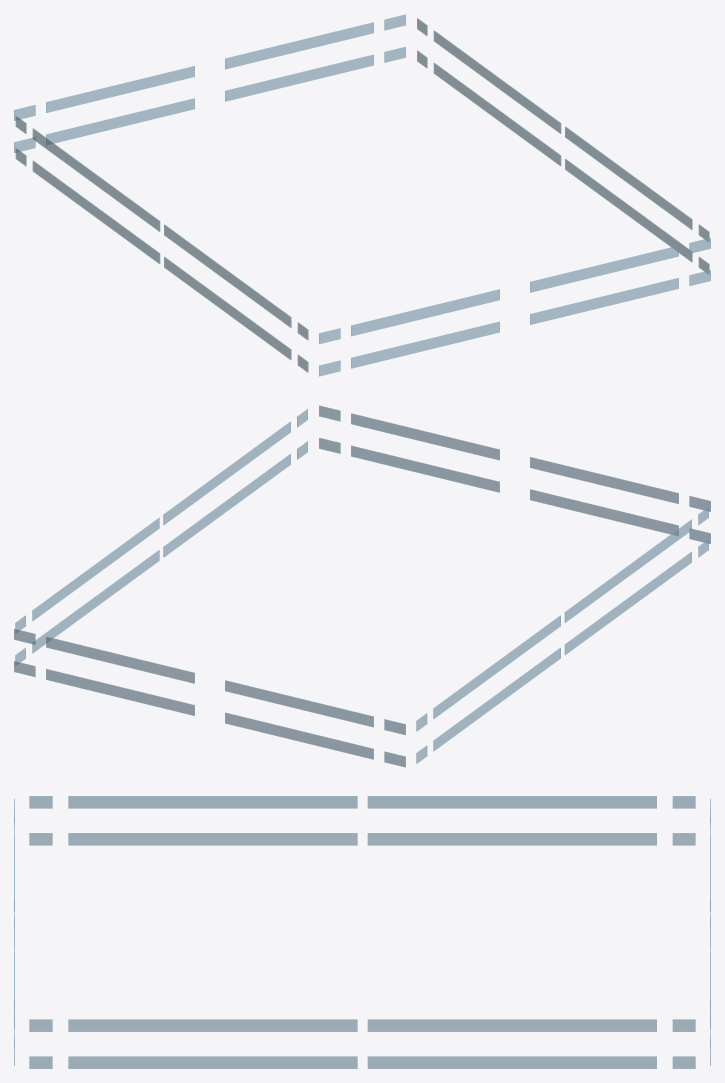
Rendered from wall0.gltf.
The picture shows the model from 3 angles, top to bottom: view 1: azimuth 30°, elevation 25°; view 2: azimuth 150°, elevation 25°; view 3: azimuth 270°, elevation 25°; orthographic projection. The views are drawn at different scales.
Visible parts, largest first — view 1: L2_WaiQiang; view 2: L2_WaiQiang; view 3: L2_WaiQiang.
Boxes of the visible parts, bbox=[...] form: L2_WaiQiang: bbox=[14, 14, 710, 376]; L2_WaiQiang: bbox=[14, 405, 710, 767]; L2_WaiQiang: bbox=[14, 796, 710, 1068].
Size of the model in its own units: 26.48 by 2.71 by 34.87.
